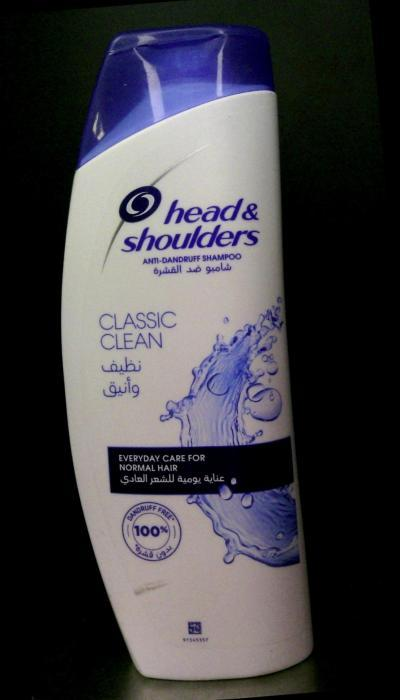tear_unacc: (125, 569, 182, 601)
